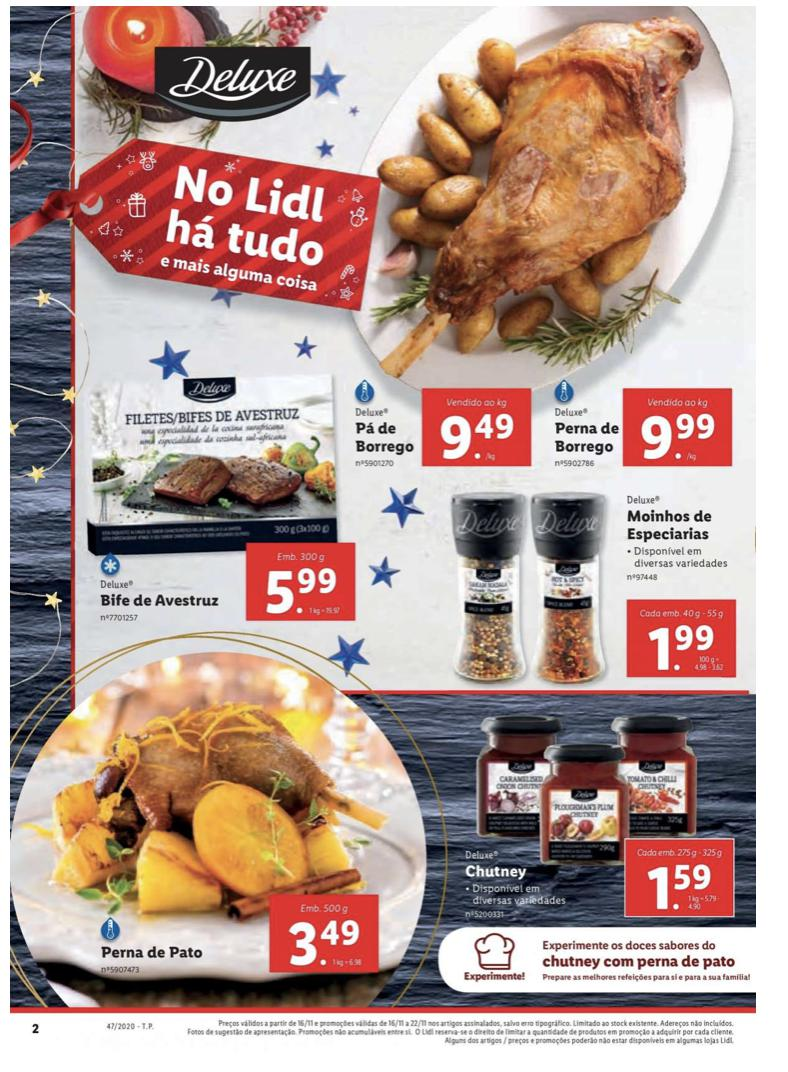name: (98, 591, 227, 615), (627, 507, 718, 541), (551, 420, 622, 457), (353, 419, 422, 457), (97, 940, 207, 963), (463, 863, 529, 883)
price: (282, 915, 363, 969), (429, 411, 518, 460), (262, 564, 342, 615), (649, 617, 721, 672), (642, 860, 714, 913), (638, 412, 719, 457)
product: (329, 28, 547, 473), (555, 20, 743, 473), (71, 716, 385, 987), (75, 373, 373, 629), (443, 477, 755, 689), (447, 701, 729, 923)
